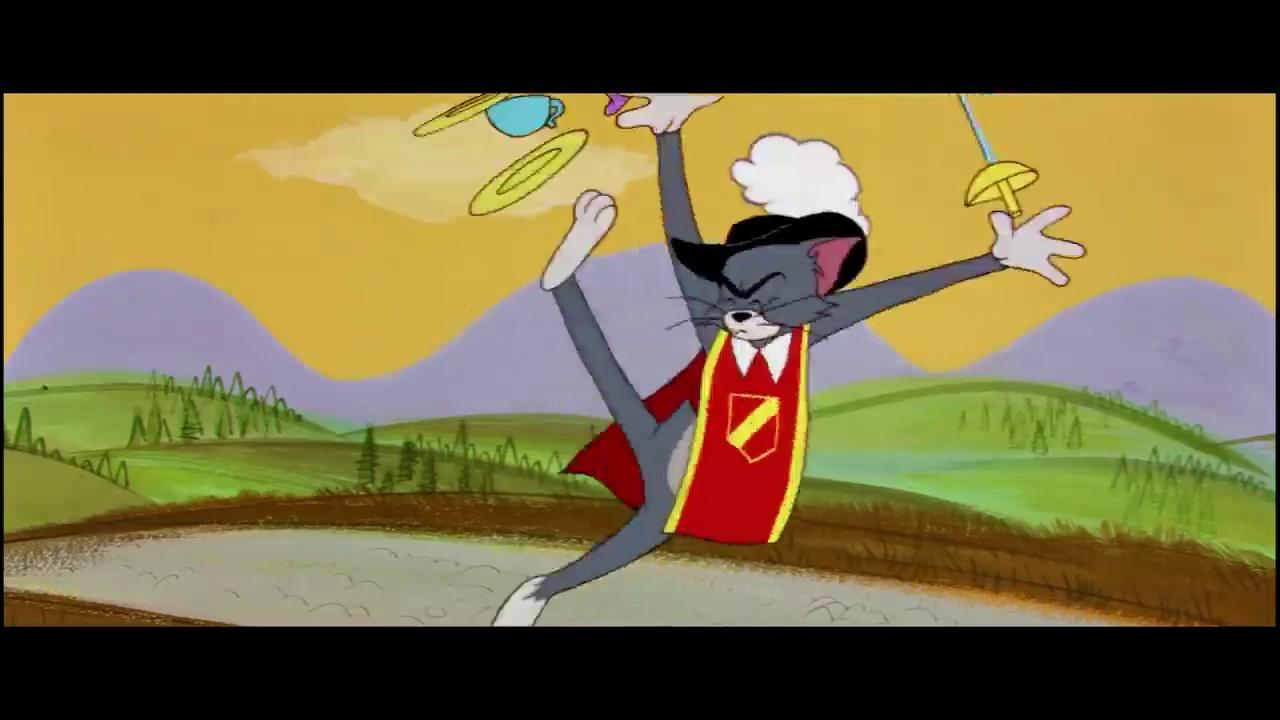Tom: (489, 93, 1090, 626)
